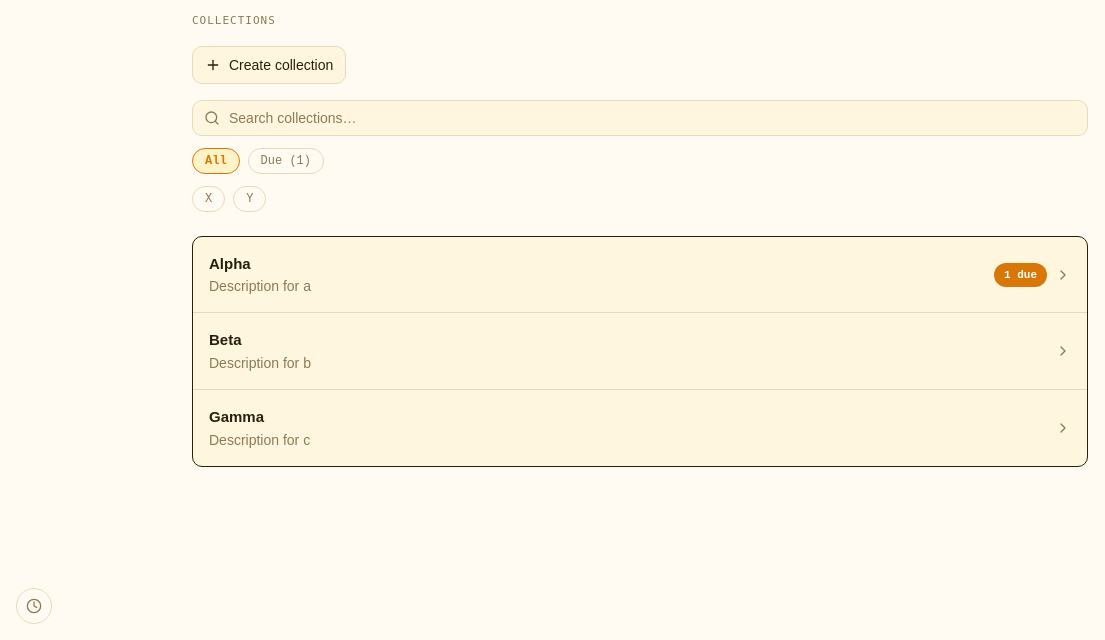
Test: Home — tag filtering › filters due collections using memoized row due counts
Click the button "Due (1)" at x=286, y=161, box [248,148,324,174]
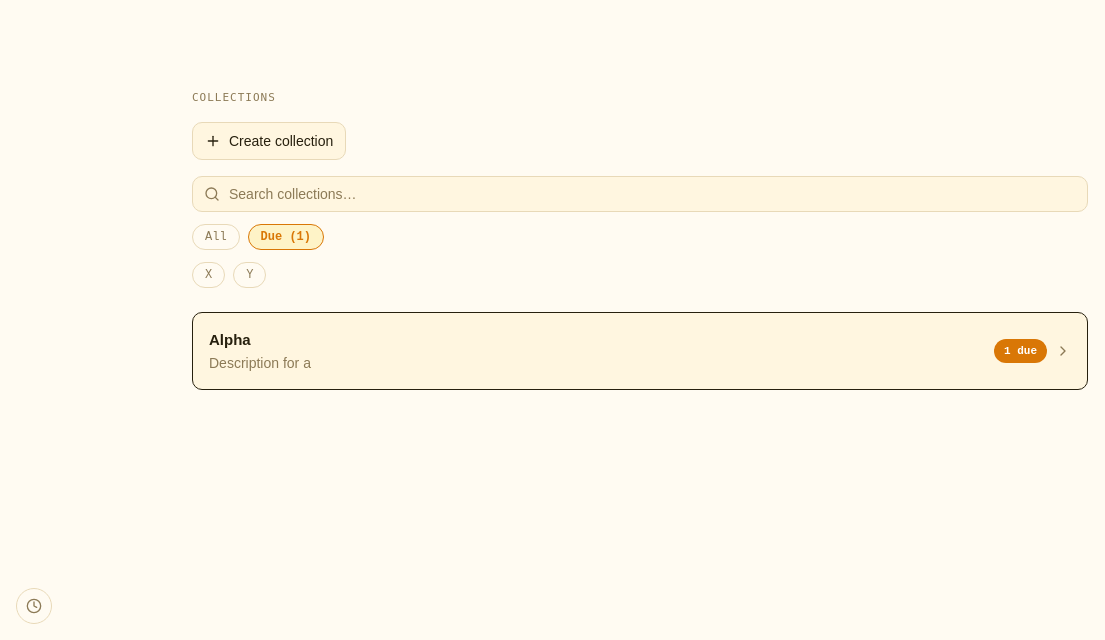
Expected: the heading "Alpha" is shown, [209,329,251,352]
Now the link "Beta" is gone
Now the link "Gamma" is gone
